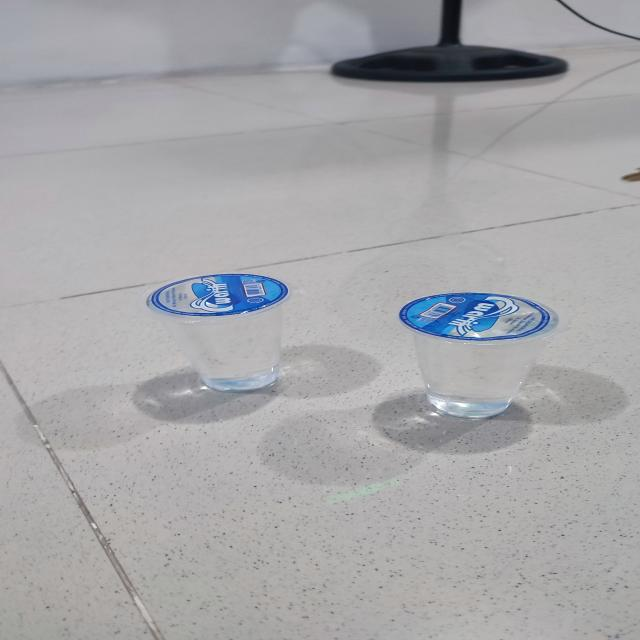air gelas: (388, 290, 564, 420), (148, 269, 305, 393)
